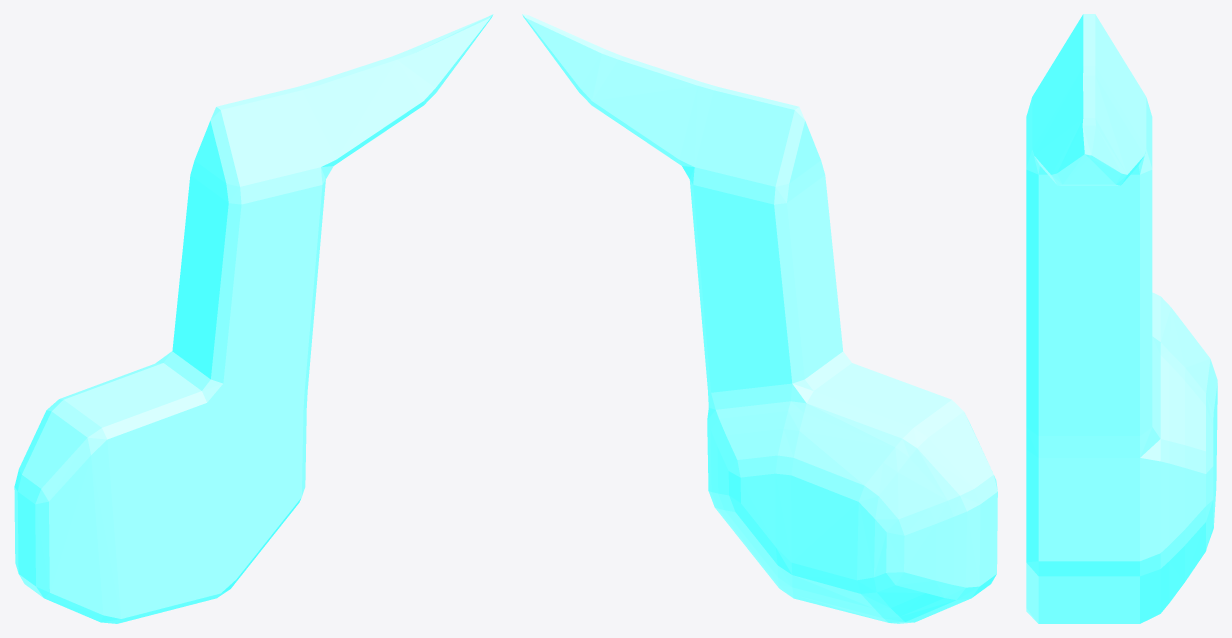
The model's file is note_mat.gltf.
The picture shows the model from 3 angles, left to right: view 1: azimuth 30°, elevation 25°; view 2: azimuth 150°, elevation 25°; view 3: azimuth 270°, elevation 25°; orthographic projection. The views are drawn at different scales.
Parts seen in each view (by area): view 1: Polygon; view 2: Polygon; view 3: Polygon.
Part boxes in pixels (x1=…): Polygon: x1=14, y1=14, x2=493, y2=623; Polygon: x1=522, y1=14, x2=997, y2=623; Polygon: x1=1026, y1=14, x2=1217, y2=623.
Bounding box in the file's own units: 323 × 330 × 86.94.
